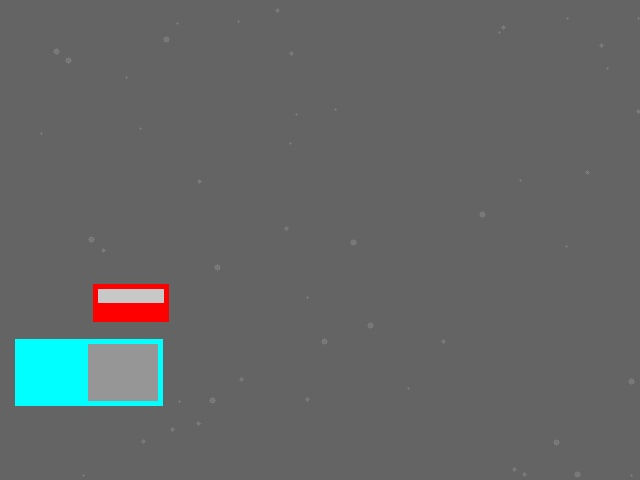car: (93, 284, 168, 321)
truck: (15, 339, 162, 405)
